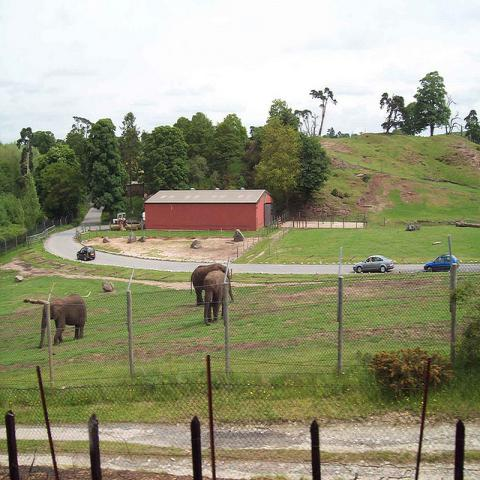car: (353, 255, 394, 273), (424, 254, 460, 270), (76, 246, 96, 261)
